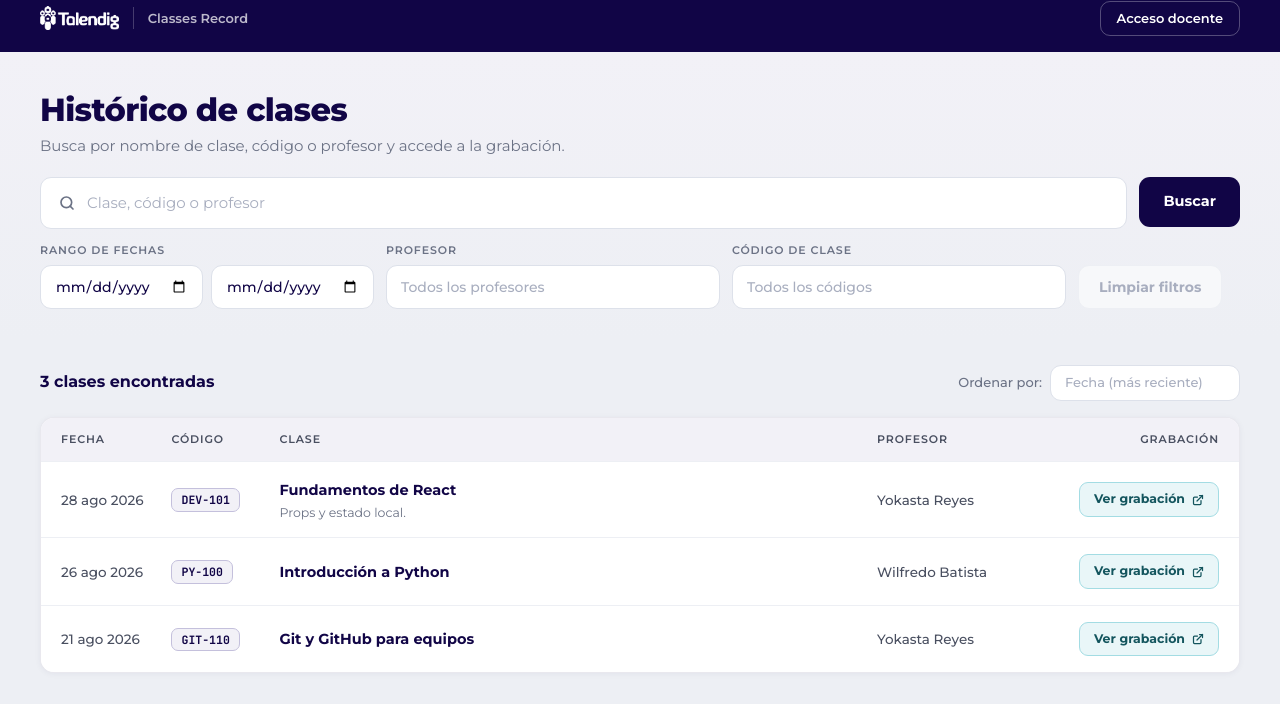
Test: PublicSearchPage › offers to clear the filters from the empty state
Check: the heading "3 clases encontradas" is shown, box [40,372,214,393]
Select "Wilfredo Batista" in the dropdown named "Profesor" at (553, 287), box [386,265,720,309]
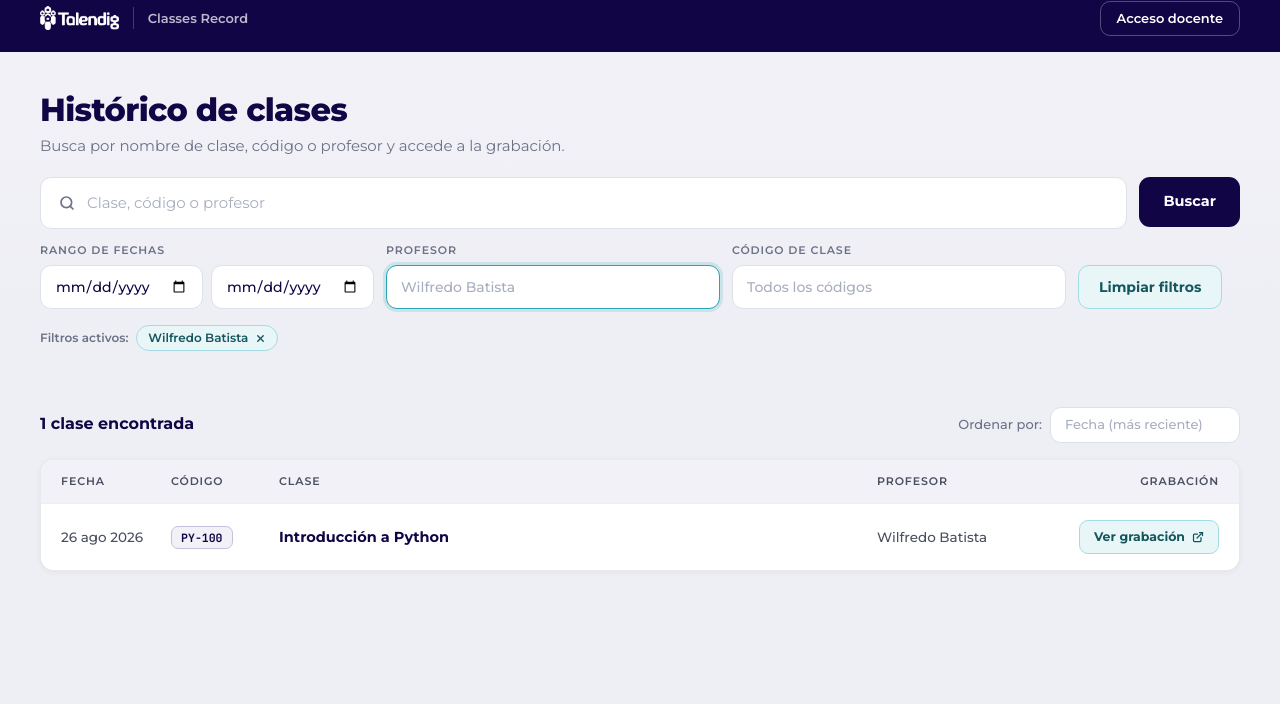
Type "figma" into the search field labelled "Clase, código o profesor" at (598, 203), box [87,192,1108,214]
(page scrolled)
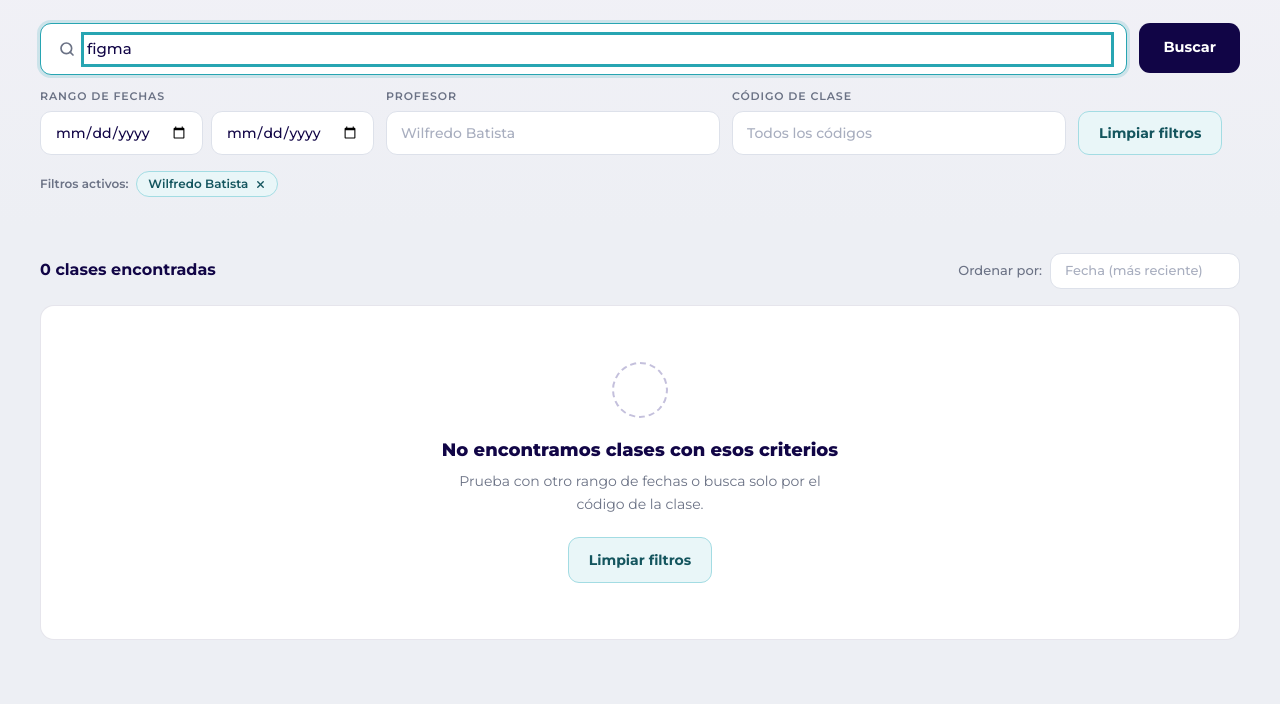
Check: the heading "No encontramos clases con esos criterios" is shown, box [442,439,838,461]
Click the button "Limpiar filtros" below "No encontramos clases con esos criterios" at (640, 560), box [568,537,712,583]
(page scrolled)
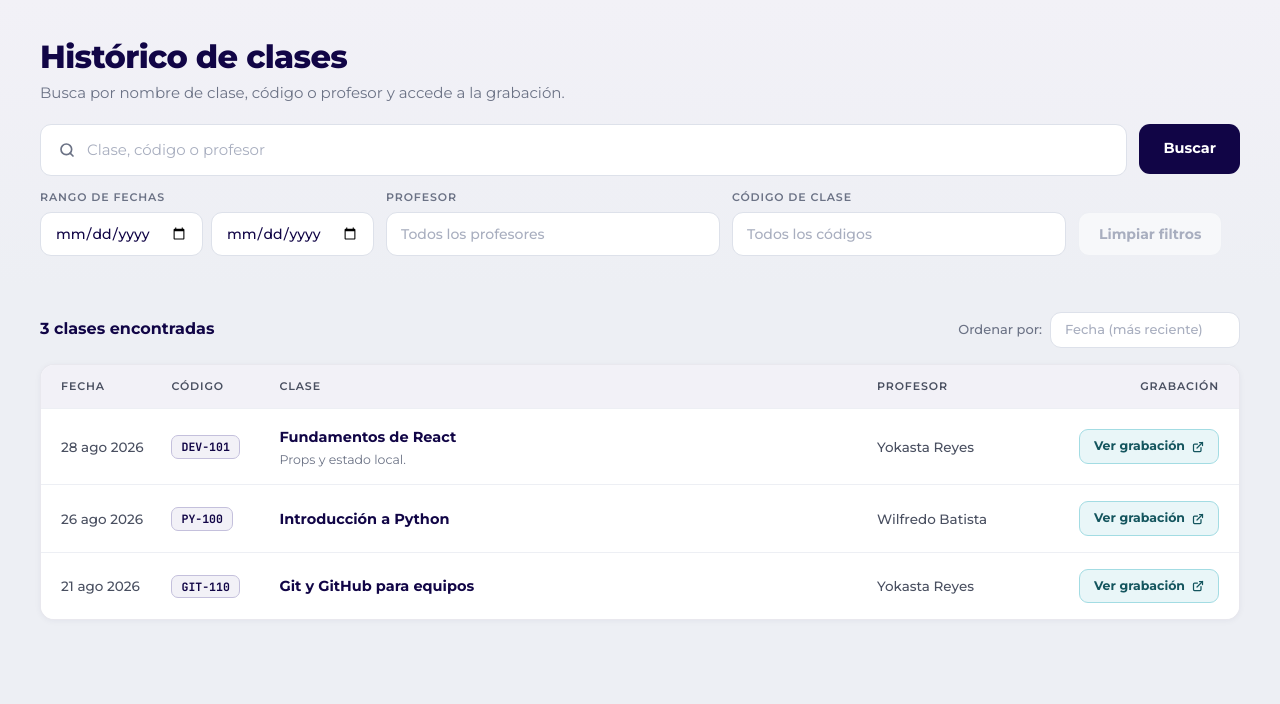
Check: the heading "3 clases encontradas" is shown, box [40,319,214,340]
